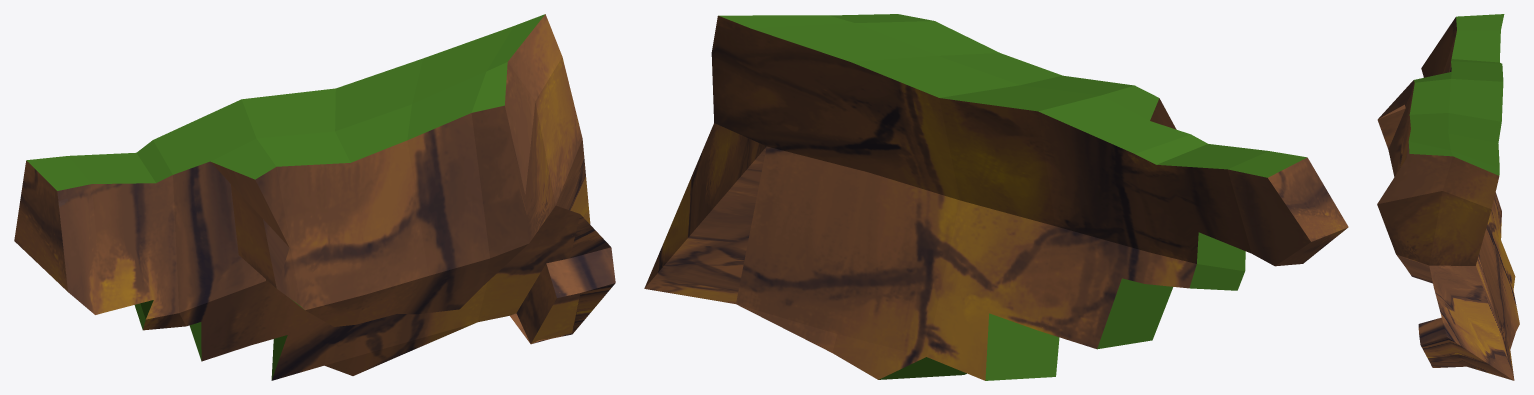
Rendered from inifin.obj.
The picture shows the model from 3 angles, left to right: view 1: azimuth 30°, elevation 25°; view 2: azimuth 150°, elevation 25°; view 3: azimuth 270°, elevation 25°; orthographic projection. The views are drawn at different scales.
Parts seen in each view (by area): view 1: Plane.004_Plane.007; view 2: Plane.004_Plane.007; view 3: Plane.004_Plane.007.
Boxes of the visible parts, x1,y1,x2,y2 form: Plane.004_Plane.007: (14,14,615,380); Plane.004_Plane.007: (644,14,1348,380); Plane.004_Plane.007: (1377,14,1519,380).
Bounding box in the file's own units: 190 × 89.89 × 55.33.
Materials: 1 (1 with a texture image).
